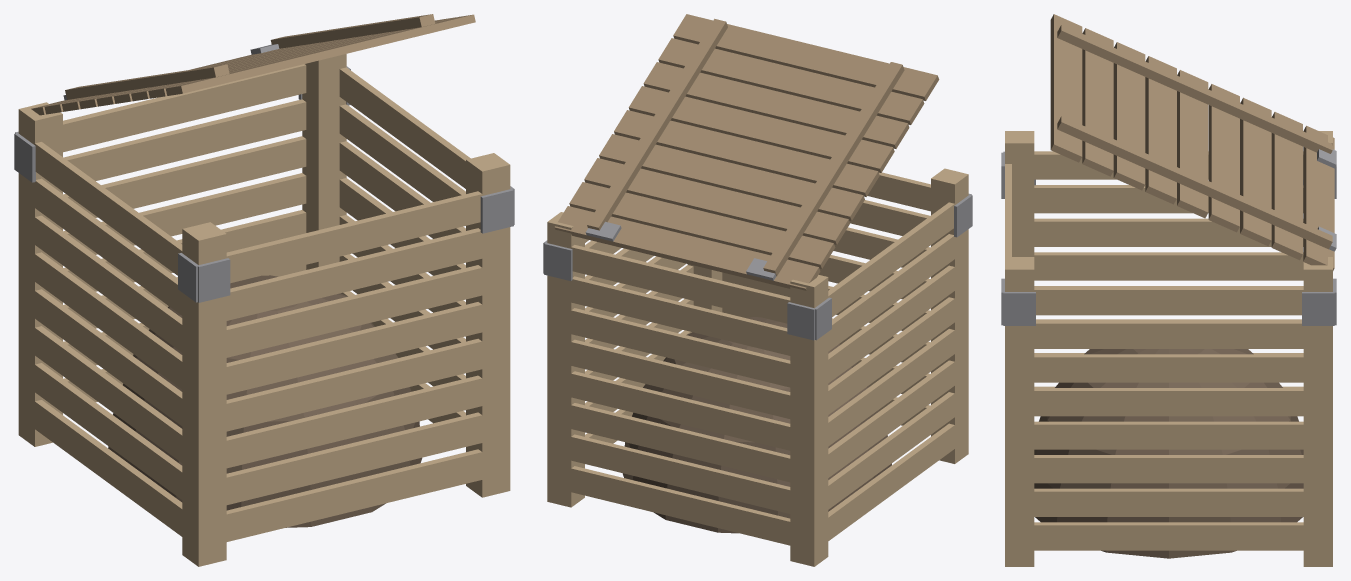
File: 33-Agricultura_compostera.glb
3 renders of one model, left to right at view 1: azimuth 30°, elevation 25°; view 2: azimuth 150°, elevation 25°; view 3: azimuth 270°, elevation 25°, orthographic. The views are drawn at different scales.
Visible parts, largest first — view 1: SM_Compostera_Madera, SM_Compostera_Tapa, SM_Compostera_Compost, SM_Compostera_Hierro; view 2: SM_Compostera_Madera, SM_Compostera_Tapa, SM_Compostera_Compost, SM_Compostera_Hierro; view 3: SM_Compostera_Madera, SM_Compostera_Tapa, SM_Compostera_Compost, SM_Compostera_Hierro.
Part boxes in pixels (<box>): SM_Compostera_Madera: <box>18,54,510,566</box>; SM_Compostera_Tapa: <box>31,14,475,115</box>; SM_Compostera_Compost: <box>108,275,422,527</box>; SM_Compostera_Hierro: <box>14,66,514,302</box>; SM_Compostera_Madera: <box>547,168,968,566</box>; SM_Compostera_Tapa: <box>554,14,939,290</box>; SM_Compostera_Compost: <box>622,317,891,533</box>; SM_Compostera_Hierro: <box>543,193,972,340</box>; SM_Compostera_Madera: <box>1005,131,1332,566</box>; SM_Compostera_Tapa: <box>1050,14,1336,270</box>; SM_Compostera_Compost: <box>1034,349,1303,558</box>; SM_Compostera_Hierro: <box>1001,151,1336,325</box>.
Bounding box in the file's own units: 1.02 × 1.43 × 1.02.
